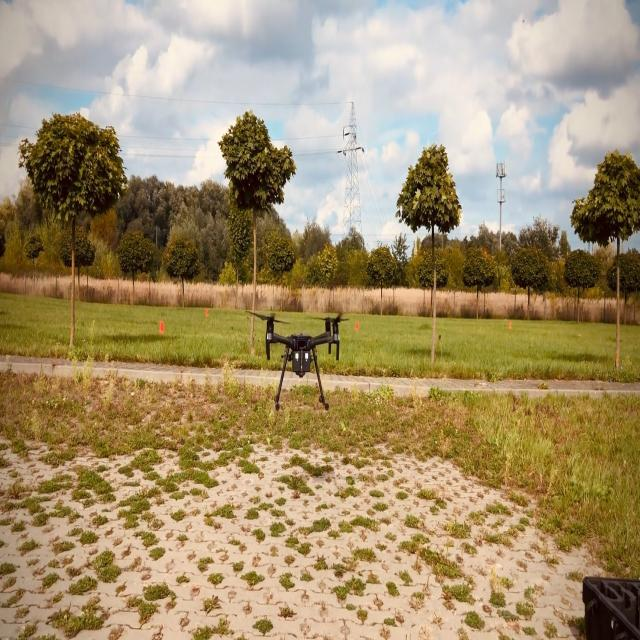drone: (245, 308, 349, 412)
